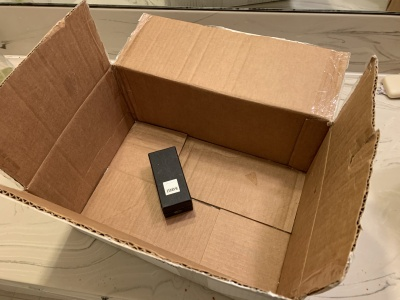innerbox: (73, 75, 315, 281)
outerbox: (3, 4, 368, 281)
product: (149, 145, 190, 215)
